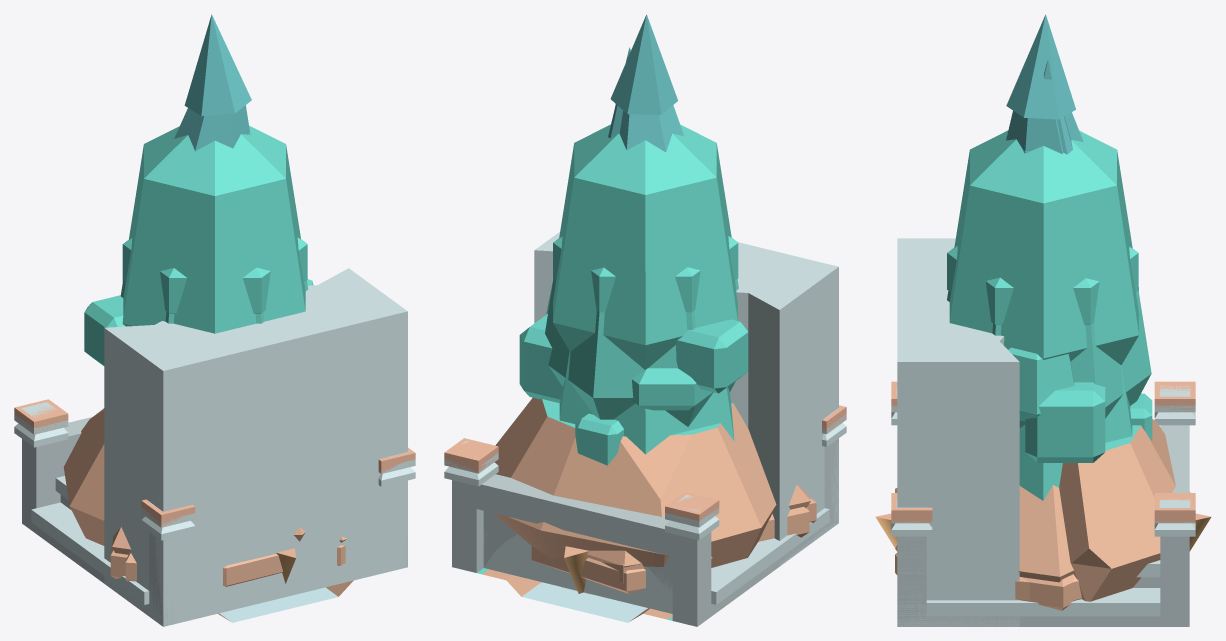
The model's file is natureza.glb.
The picture shows the model from 3 angles, left to right: view 1: azimuth 30°, elevation 25°; view 2: azimuth 150°, elevation 25°; view 3: azimuth 270°, elevation 25°; orthographic projection. The views are drawn at different scales.
Parts seen in each view (by area): view 1: cliff_large_stone, Mesh_tree_default_1, Mesh_tree_pineTallD, Mesh_bridge_stoneRound_1, Mesh_bridge_stoneRound, Mesh_rock_largeD, Mesh_tree_plateau, Mesh_bridge_woodRound_2, Mesh_bridge_stone, Mesh_tree_detailed, Mesh_bridge_stone_1, Mesh_rock_largeC (+1 smaller); view 2: Mesh_tree_default_1, cliff_large_stone, Mesh_rock_largeD, Mesh_bridge_stoneRound_1, Mesh_tree_detailed, Mesh_tree_oak, Mesh_tree_pineTallD, Mesh_bridge_stoneRound, Mesh_tree_plateau, Mesh_bridge_stone, Mesh_tree_fat, Mesh_bridge_stone_1 (+6 smaller); view 3: cliff_large_stone, Mesh_tree_default_1, Mesh_rock_largeD, Mesh_bridge_stoneRound_1, Mesh_tree_detailed, Mesh_bridge_stoneRound, Mesh_tree_pineTallD, Mesh_rock_largeF, Mesh_tree_oak, Mesh_bridge_woodRound_2, Mesh_tree_thin, Mesh_tree_fat (+7 smaller).
Boxes of the visible parts, x1,y1,x2,y2 form: cliff_large_stone: [104, 268, 407, 626]; Mesh_tree_default_1: [122, 125, 305, 333]; Mesh_tree_pineTallD: [174, 14, 251, 151]; Mesh_bridge_stoneRound_1: [22, 417, 407, 626]; Mesh_bridge_stoneRound: [14, 402, 415, 604]; Mesh_rock_largeD: [63, 408, 305, 545]; Mesh_tree_plateau: [122, 237, 307, 313]; Mesh_bridge_woodRound_2: [14, 399, 415, 527]; Mesh_bridge_stone: [14, 423, 415, 540]; Mesh_tree_detailed: [84, 295, 125, 365]; Mesh_bridge_stone_1: [22, 439, 407, 624]; Mesh_rock_largeC: [125, 553, 282, 586]; Mesh_tree_default_1: [553, 124, 737, 369]; cliff_large_stone: [534, 232, 838, 565]; Mesh_rock_largeD: [493, 398, 776, 567]; Mesh_bridge_stoneRound_1: [452, 439, 838, 626]; Mesh_tree_detailed: [519, 314, 748, 465]; Mesh_tree_oak: [545, 279, 738, 426]; Mesh_tree_pineTallD: [610, 14, 683, 152]; Mesh_bridge_stoneRound: [444, 407, 846, 613]; Mesh_tree_plateau: [553, 236, 738, 410]; Mesh_bridge_stone: [444, 423, 846, 610]; Mesh_tree_fat: [559, 351, 734, 454]; Mesh_bridge_stone_1: [452, 438, 838, 626]; cliff_large_stone: [897, 238, 1019, 626]; Mesh_tree_default_1: [949, 130, 1138, 364]; Mesh_rock_largeD: [1059, 419, 1175, 601]; Mesh_bridge_stoneRound_1: [897, 425, 1189, 626]; Mesh_tree_detailed: [1025, 382, 1152, 462]; Mesh_bridge_stoneRound: [891, 385, 1195, 616]; Mesh_tree_pineTallD: [1006, 14, 1083, 153]; Mesh_rock_largeF: [1018, 485, 1074, 582]; Mesh_tree_oak: [947, 290, 1151, 427]; Mesh_bridge_woodRound_2: [891, 381, 1195, 523]; Mesh_tree_thin: [1007, 347, 1074, 421]; Mesh_tree_fat: [1019, 365, 1132, 500].
Size of the model in its own units: 1.1 by 2.13 by 1.15.
